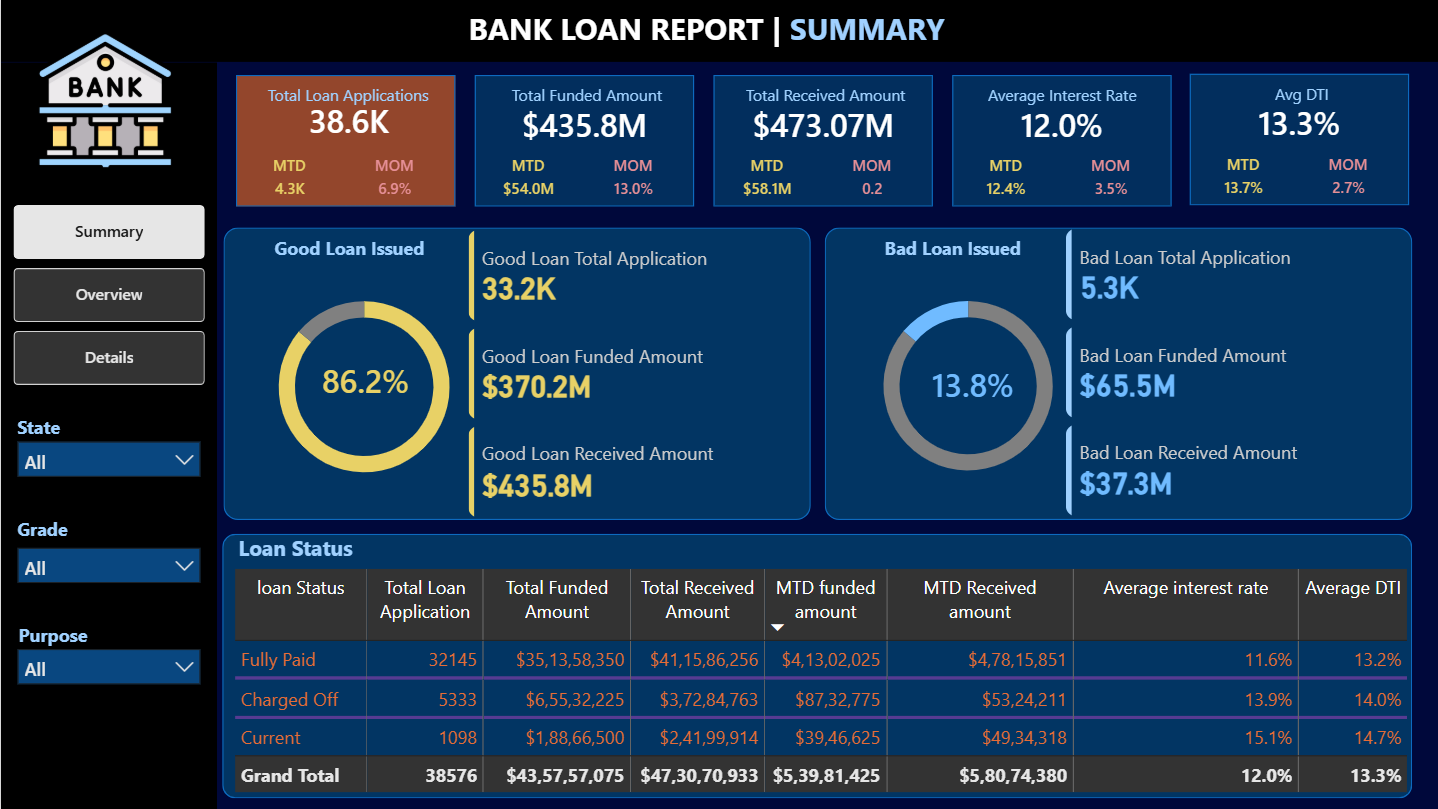

The dashboard page shown, as its layout file describes it:
{"tool":"powerbi","page":{"name":"Summary","canvas":[1280,720],"ordinal":0},"visuals":[{"type":"shape","box":[0,0,1280,55],"z":0},{"type":"shape","box":[1057.1,65.7,195,117],"z":0,"group":"g5"},{"type":"shape","box":[209,67,195,117],"z":0,"group":"g1"},{"type":"shape","box":[421.4,67,195,117],"z":0,"group":"g2"},{"type":"shape","box":[633.7,67,195,117],"z":0,"group":"g3"},{"type":"shape","box":[846.1,67.1,195,117],"z":0,"group":"g4"},{"type":"shape","box":[0,55,192,665],"z":1000},{"type":"card","fields":{"Values":["Measure table.Average_DTI"]},"box":[1075.1,73.7,159,75],"z":1000,"group":"g5"},{"type":"card","fields":{"Values":["Measure table.Total_Loan_Application"]},"box":[236,75,147,69],"z":1000,"group":"g1"},{"type":"card","fields":{"Values":["Measure table.Total Funded Amount"]},"box":[439.4,75,159,75],"z":1000,"group":"g2"},{"type":"card","fields":{"Values":["Measure table.Total Received Amount"]},"box":[651.7,75,159,75],"z":1000,"group":"g3"},{"type":"card","fields":{"Values":["Measure table.Average_interest_rate"]},"box":[864.1,75.1,159,75],"z":1000,"group":"g4"},{"type":"textbox","box":[1059.1,73.7,195,32],"z":2000,"group":"g5"},{"type":"textbox","box":[211,75,195,32],"z":2000,"group":"g1"},{"type":"textbox","box":[423.4,75,195,32],"z":2000,"group":"g2"},{"type":"textbox","box":[635.7,75,195,32],"z":2000,"group":"g3"},{"type":"textbox","box":[848.1,75.1,195,32],"z":2000,"group":"g4"},{"type":"textbox","box":[212.2,207.8,194.4,32.2],"z":2000},{"type":"card","title":"MTD","fields":{"Values":["Measure table.MTD_Avg_dti"]},"box":[1071.1,124.7,66,58],"z":3000,"group":"g5"},{"type":"card","title":"MTD","fields":{"Values":["Measure table.MTD_Loan_Application"]},"box":[223,126,66,58],"z":3000,"group":"g1"},{"type":"card","title":"MTD","fields":{"Values":["Measure table.MTD_funded_amount"]},"box":[435.4,126,66,58],"z":3000,"group":"g2"},{"type":"card","title":"MTD","fields":{"Values":["Measure table.MTD_Received_amount"]},"box":[647.7,126,66,58],"z":3000,"group":"g3"},{"type":"card","title":"MTD","fields":{"Values":["Measure table.MTD_interest_rate"]},"box":[860.1,126.1,66,58],"z":3000,"group":"g4"},{"type":"textbox","box":[223.3,202.2,194.4,32.2],"z":3000},{"type":"card","title":"MOM","fields":{"Values":["Measure table.Mom Average DTI"]},"box":[1165.1,124.7,66,58],"z":4000,"group":"g5"},{"type":"card","title":"MOM","fields":{"Values":["Measure table.mom Loan Application"]},"box":[317,126,66,58],"z":4000,"group":"g1"},{"type":"card","title":"MOM","fields":{"Values":["Measure table.Mom funded Amount"]},"box":[529.4,126,66,58],"z":4000,"group":"g2"},{"type":"card","title":"MOM","fields":{"Values":["Measure table.Mom Received Amount"]},"box":[741.7,126,66,58],"z":4000,"group":"g3"},{"type":"card","title":"MOM","fields":{"Values":["Measure table.Mom interest Rate"]},"box":[954.1,126.1,66,58],"z":4000,"group":"g4"},{"type":"shape","box":[197.8,202.2,522,260],"z":4000},{"type":"textbox","box":[416,7,448,43],"z":5000},{"type":"group","id":"g1","title":"Group 1","box":[209,67,197,117],"z":6000},{"type":"group","id":"g2","title":"Group 1","box":[421.4,67,197,117],"z":7000},{"type":"group","id":"g3","title":"Group 1","box":[633.7,67,197,117],"z":8000},{"type":"group","id":"g4","title":"Group 1","box":[846.1,67.1,195.7,117.1],"z":9000},{"type":"group","id":"g5","title":"Group 1","box":[1057.1,65.7,197.1,115.7],"z":10000},{"type":"shape","box":[732.2,202.2,522.2,260],"z":11000},{"type":"donutChart","fields":{"Category":["financial_loan.Good vs Bad Loan"],"Y":["Measure table.Total_Loan_Application"]},"box":[197.8,234.4,250,220],"z":12000},{"type":"card","fields":{"Values":["financial_loan.Good Loan %"]},"box":[250,305.6,147.8,68.9],"z":13000},{"type":"cardVisual","fields":{"Data":["Date Table.Good loan total application","Date Table.Good loan funded amount","Date Table.Good loan Received Amount"]},"box":[415.6,204.4,305.6,257.8],"z":14000},{"type":"donutChart","fields":{"Category":["financial_loan.Good vs Bad Loan"],"Y":["Measure table.Total_Loan_Application"]},"box":[734.7,234.9,250.5,218.1],"z":15000},{"type":"textbox","box":[749.1,208.5,194.2,32.4],"z":16000},{"type":"card","fields":{"Values":["financial_loan.Bad Loan %"]},"box":[789.8,309.2,147.4,69.5],"z":17000},{"type":"cardVisual","fields":{"Data":["Date Table.Bad Loan Total Application","Date Table.Bad Loan Funded Amount","Date Table.Bad Loan Received Amount"]},"box":[946.8,203.7,305.6,257.7],"z":18000},{"type":"shape","box":[197.2,474.6,1057.7,235.2],"z":19000},{"type":"tableEx","fields":{"Values":["financial_loan.loan_status","Measure table.Total_Loan_Application","Measure table.Total Funded Amount","Measure table.Total Received Amount","Measure table.MTD_funded_amount","Measure table.MTD_Received_amount","Measure table.Average_interest_rate","Measure table.Average_DTI"]},"box":[202.8,502.8,1056.3,207],"z":20000},{"type":"textbox","box":[211.3,474.6,194.4,32.4],"z":21000},{"type":"slicer","fields":{"Values":["financial_loan.address_state"]},"box":[9.9,387.3,171.8,43.7],"z":22000},{"type":"textbox","box":[9.9,367.6,85.9,32.4],"z":23000},{"type":"textbox","box":[212.5,208.8,195,32.5],"z":24000},{"type":"slicer","fields":{"Values":["financial_loan.grade"]},"box":[9.9,481.7,171.8,43.7],"z":25000},{"type":"textbox","box":[9.9,459.2,85.9,32.4],"z":26000},{"type":"slicer","fields":{"Values":["financial_loan.purpose"]},"box":[9.9,571.8,171.8,43.7],"z":27000},{"type":"textbox","box":[11.3,553.5,85.9,40.8],"z":28000},{"type":"image","box":[26.2,26.2,132.5,123.8],"z":29000},{"type":"pageNavigator","box":[11.2,182.5,170,162.5],"z":30000}]}

Visuals, with their boxes in screenshot pixels (x1, y1, x2, y2), scaled from the page's 1280x720 canvas onto the 1438x809 screenshot:
shape: detection(0, 0, 1437, 62)
shape: detection(1188, 74, 1407, 205)
shape: detection(235, 75, 454, 207)
shape: detection(473, 75, 692, 207)
shape: detection(712, 75, 931, 207)
shape: detection(951, 75, 1170, 207)
shape: detection(0, 62, 216, 808)
card - Measure table.Average_DTI: detection(1208, 83, 1386, 167)
card - Measure table.Total_Loan_Application: detection(265, 84, 430, 162)
card - Measure table.Total Funded Amount: detection(494, 84, 672, 169)
card - Measure table.Total Received Amount: detection(732, 84, 911, 169)
card - Measure table.Average_interest_rate: detection(971, 84, 1149, 169)
textbox: detection(1190, 83, 1409, 119)
textbox: detection(237, 84, 456, 120)
textbox: detection(476, 84, 695, 120)
textbox: detection(714, 84, 933, 120)
textbox: detection(953, 84, 1172, 120)
textbox: detection(238, 233, 457, 270)
"MTD" card: detection(1203, 140, 1277, 205)
"MTD" card: detection(251, 142, 325, 207)
"MTD" card: detection(489, 142, 563, 207)
"MTD" card: detection(728, 142, 802, 207)
"MTD" card: detection(966, 142, 1040, 207)
textbox: detection(251, 227, 469, 263)
"MOM" card: detection(1309, 140, 1383, 205)
"MOM" card: detection(356, 142, 430, 207)
"MOM" card: detection(595, 142, 669, 207)
"MOM" card: detection(833, 142, 907, 207)
"MOM" card: detection(1072, 142, 1146, 207)
shape: detection(222, 227, 809, 519)
textbox: detection(467, 8, 971, 56)
"Group 1" group: detection(235, 75, 456, 207)
"Group 1" group: detection(473, 75, 695, 207)
"Group 1" group: detection(712, 75, 933, 207)
"Group 1" group: detection(951, 75, 1170, 207)
"Group 1" group: detection(1188, 74, 1409, 204)
shape: detection(823, 227, 1409, 519)
donutChart - financial_loan.Good vs Bad Loan x Measure table.Total_Loan_Application: detection(222, 263, 503, 511)
card - financial_loan.Good Loan %: detection(281, 343, 447, 421)
cardVisual - Date Table.Good loan total application x Date Table.Good loan funded amount: detection(467, 230, 810, 519)
donutChart - financial_loan.Good vs Bad Loan x Measure table.Total_Loan_Application: detection(825, 264, 1107, 509)
textbox: detection(842, 234, 1060, 271)
card - financial_loan.Bad Loan %: detection(887, 347, 1053, 426)
cardVisual - Date Table.Bad Loan Total Application x Date Table.Bad Loan Funded Amount: detection(1064, 229, 1407, 518)
shape: detection(222, 533, 1410, 798)
tableEx - financial_loan.loan_status x Measure table.Total_Loan_Application: detection(228, 565, 1415, 798)
textbox: detection(237, 533, 456, 570)
slicer - financial_loan.address_state: detection(11, 435, 204, 484)
textbox: detection(11, 413, 108, 449)
textbox: detection(239, 235, 458, 271)
slicer - financial_loan.grade: detection(11, 541, 204, 590)
textbox: detection(11, 516, 108, 552)
slicer - financial_loan.purpose: detection(11, 642, 204, 692)
textbox: detection(13, 622, 109, 668)
image: detection(29, 29, 178, 169)
pageNavigator: detection(13, 205, 204, 388)
